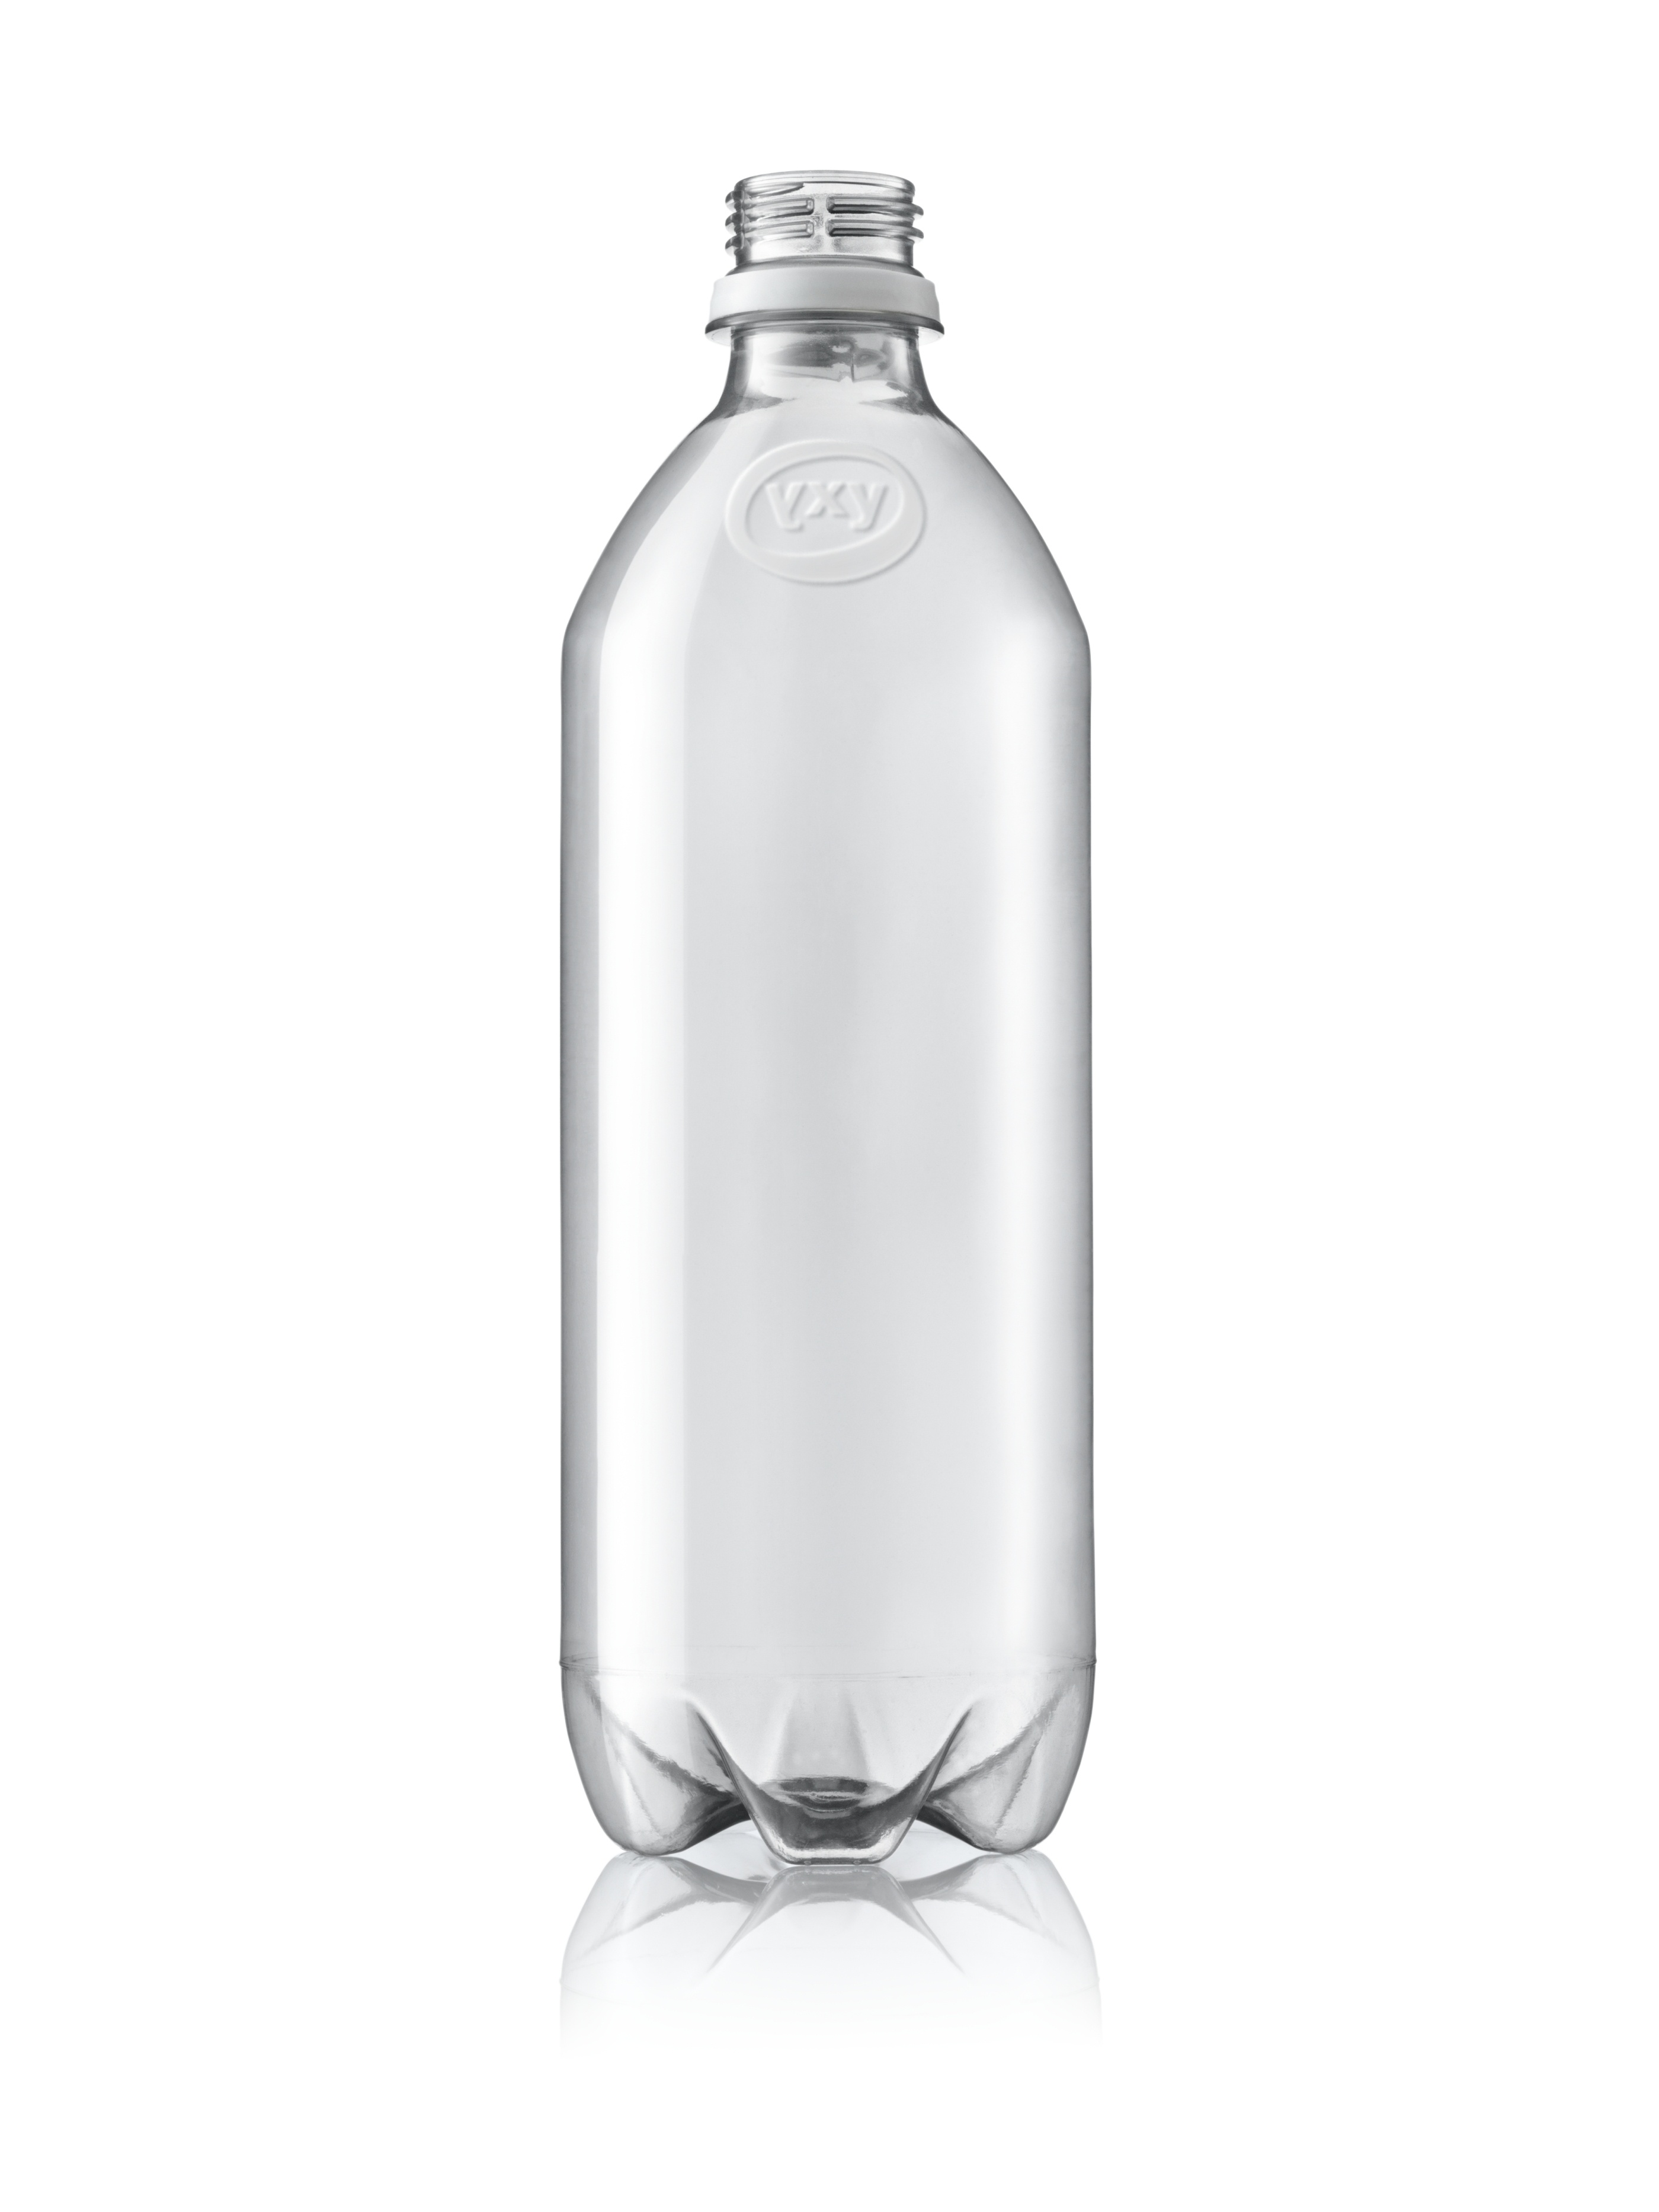emptybottle: (565, 174, 1096, 1872)
